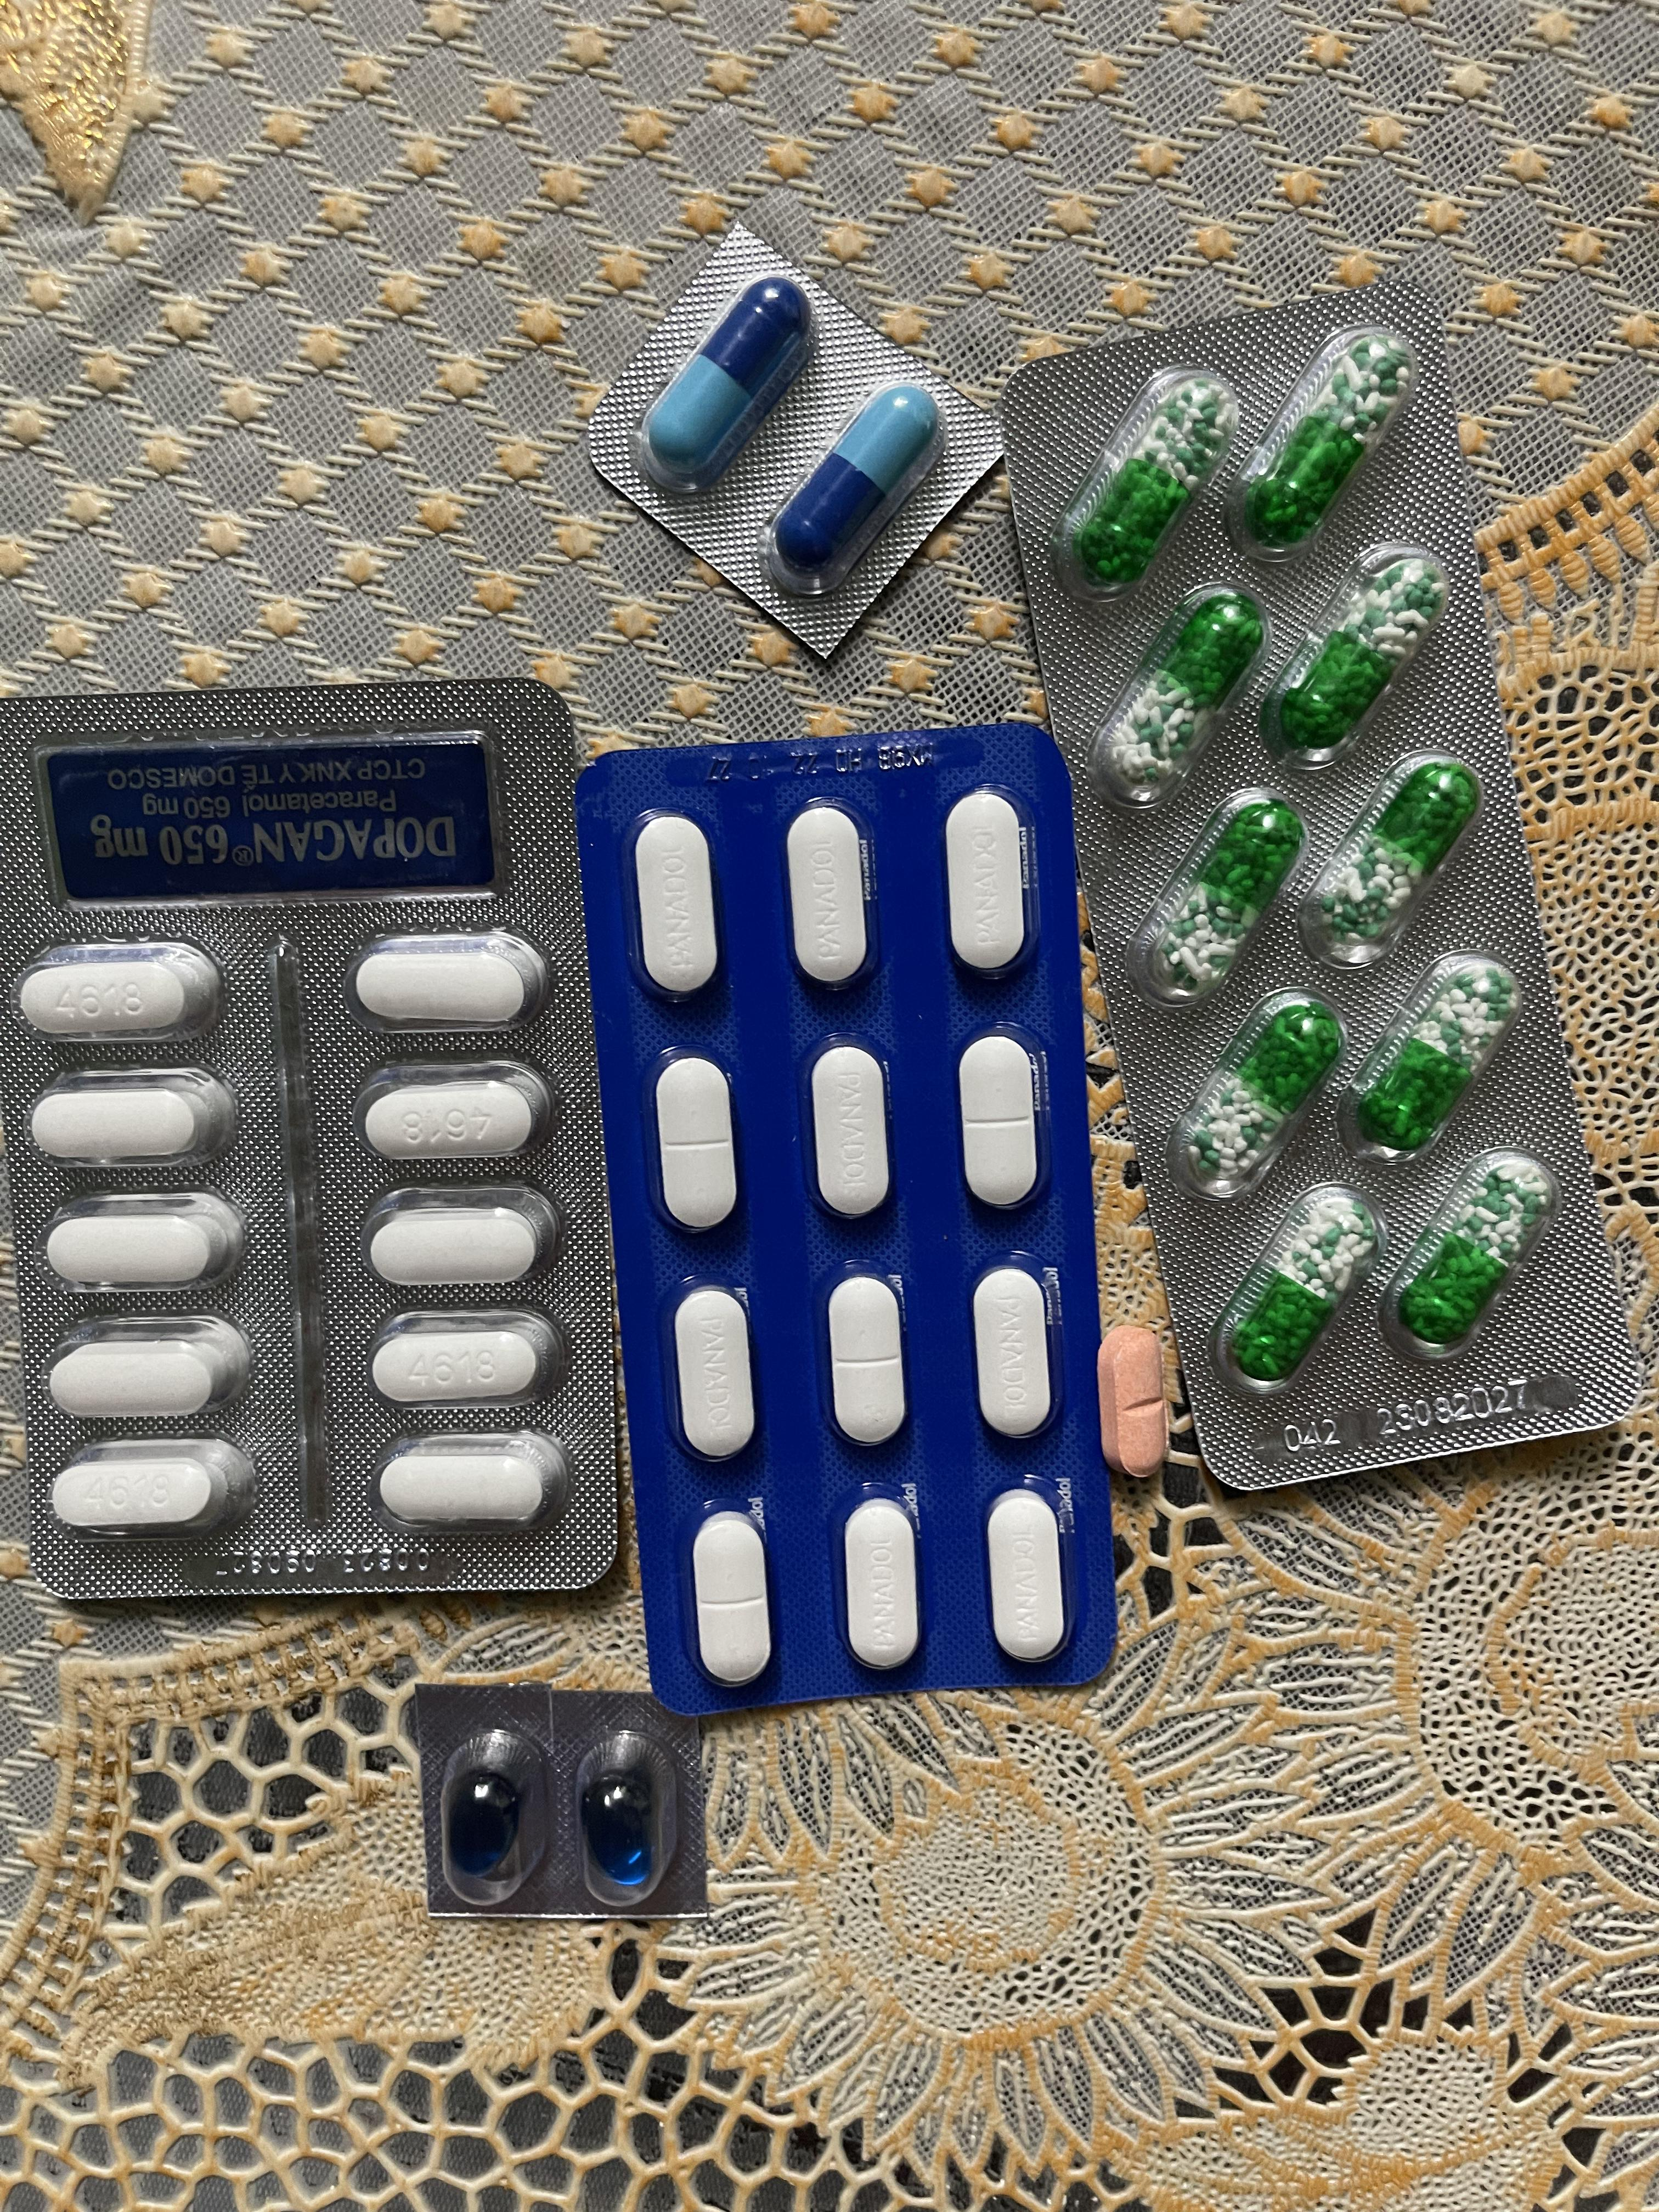Lincomyxin_500mg: (580, 1763, 657, 1888), (448, 1764, 526, 1881)
Loratadine_10mg: (1107, 1325, 1162, 1477)
Paracetamol_350mg: (784, 805, 871, 986), (945, 791, 1030, 975), (633, 813, 718, 995), (653, 1055, 739, 1233), (958, 1035, 1044, 1211), (985, 1489, 1068, 1665), (673, 1287, 756, 1461), (810, 1047, 894, 1221), (972, 1268, 1056, 1442), (826, 1273, 908, 1446), (842, 1498, 920, 1672), (692, 1512, 772, 1677)
Paracetamol_500mg: (357, 1061, 556, 1163), (51, 1440, 260, 1538), (44, 1191, 251, 1289), (17, 941, 223, 1038), (362, 1188, 559, 1289), (347, 932, 551, 1029), (373, 1433, 566, 1533), (45, 1329, 251, 1420), (369, 1308, 558, 1406), (28, 1083, 214, 1165)
Paracetamol_650mg: (1248, 336, 1417, 552), (1276, 559, 1450, 751), (1310, 766, 1481, 951), (1352, 965, 1520, 1146), (1227, 1190, 1378, 1385), (1396, 1162, 1554, 1346), (1119, 592, 1269, 786), (1079, 369, 1216, 578), (1150, 803, 1302, 988), (1187, 1003, 1340, 1181)
pill: (633, 277, 817, 502), (760, 381, 948, 599)
